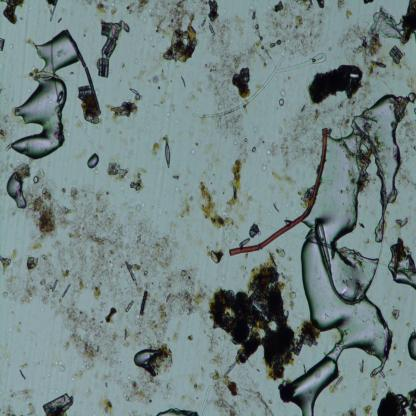Air bubble: (291, 226, 400, 416), (10, 27, 76, 158), (312, 127, 366, 236), (356, 90, 411, 192), (388, 236, 416, 292), (6, 172, 28, 208), (132, 347, 157, 368), (405, 331, 416, 360), (87, 152, 99, 168)
Background material: (63, 181, 172, 289), (207, 256, 298, 381), (0, 244, 77, 319), (58, 297, 124, 382), (196, 161, 244, 236), (26, 170, 68, 239), (348, 6, 385, 80), (120, 290, 166, 346), (164, 265, 210, 317), (306, 64, 364, 104), (278, 114, 316, 167), (275, 0, 312, 51), (103, 156, 149, 194), (215, 113, 254, 157), (375, 0, 416, 41), (159, 25, 198, 66), (244, 7, 275, 57), (148, 0, 200, 29), (126, 368, 162, 406), (376, 385, 416, 416), (39, 391, 80, 416), (210, 21, 236, 57), (176, 176, 195, 223), (396, 116, 416, 156), (127, 256, 152, 288), (156, 342, 177, 378), (0, 0, 25, 29), (360, 60, 376, 101), (313, 4, 328, 46), (106, 15, 131, 37), (104, 103, 129, 124), (209, 369, 227, 398), (216, 398, 244, 416), (205, 324, 221, 355), (268, 170, 297, 186), (126, 0, 148, 20), (300, 318, 320, 339), (11, 160, 30, 182), (97, 392, 116, 414), (338, 24, 354, 50), (255, 392, 272, 416), (180, 232, 208, 246), (368, 372, 380, 402), (156, 408, 199, 416), (186, 374, 204, 393), (276, 379, 290, 403), (8, 386, 32, 400), (26, 252, 40, 275), (391, 217, 410, 233), (208, 0, 221, 23), (224, 378, 240, 396), (209, 246, 225, 264), (335, 114, 350, 133), (24, 398, 39, 416), (329, 374, 343, 393), (92, 0, 108, 16), (236, 16, 247, 39), (150, 75, 168, 89), (0, 250, 12, 270), (0, 404, 20, 416), (207, 352, 223, 367), (242, 388, 256, 405), (46, 277, 59, 295), (265, 140, 278, 157), (19, 70, 39, 80), (243, 190, 254, 208), (61, 282, 72, 300), (276, 244, 287, 260), (196, 362, 207, 378), (152, 139, 162, 156), (92, 285, 102, 301), (272, 198, 282, 214), (145, 101, 158, 113), (130, 70, 145, 80), (24, 34, 36, 46), (129, 102, 141, 114), (279, 89, 287, 107), (390, 307, 400, 321), (356, 357, 364, 374), (337, 0, 348, 12), (316, 0, 328, 10), (299, 102, 309, 114), (336, 98, 346, 110), (364, 403, 373, 416), (342, 409, 358, 416), (180, 74, 188, 88), (171, 170, 182, 180), (118, 136, 129, 146), (0, 288, 9, 300), (346, 8, 354, 21), (186, 331, 196, 341), (202, 18, 210, 30), (134, 92, 143, 102), (260, 160, 268, 171), (205, 144, 213, 155), (313, 110, 319, 124), (84, 0, 92, 10), (80, 26, 88, 35), (362, 0, 376, 5), (57, 16, 65, 24), (210, 22, 215, 34), (188, 127, 194, 137), (9, 40, 14, 50), (250, 146, 256, 154), (170, 106, 176, 114), (286, 74, 292, 82), (148, 34, 155, 40), (302, 363, 306, 373), (160, 97, 165, 105), (112, 7, 116, 16), (405, 321, 410, 328), (187, 168, 192, 175), (190, 148, 195, 155), (393, 341, 396, 352), (267, 399, 273, 404), (105, 127, 111, 132), (398, 359, 402, 366), (193, 142, 200, 146), (327, 47, 332, 52), (165, 112, 171, 116), (389, 367, 394, 371), (27, 6, 31, 10), (62, 8, 64, 12)
Diatom: (294, 331, 315, 355), (77, 83, 95, 102), (388, 46, 405, 66), (102, 38, 118, 56), (97, 57, 110, 78), (98, 18, 112, 36), (163, 141, 172, 167), (239, 238, 250, 247), (0, 37, 6, 51), (129, 87, 139, 95)
Glass filter fibre: (193, 56, 283, 118), (3, 313, 56, 373), (277, 51, 326, 74), (76, 117, 98, 156), (112, 60, 124, 108), (200, 385, 215, 416), (47, 0, 55, 40), (285, 230, 307, 241), (255, 222, 278, 230)
Microfibre: (227, 124, 329, 258)
